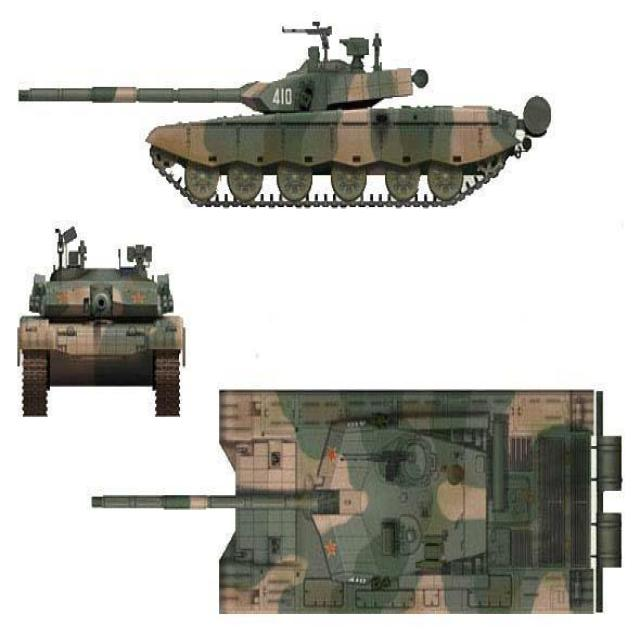Tanks: (213, 374, 618, 621), (92, 22, 555, 221), (16, 227, 202, 441)
